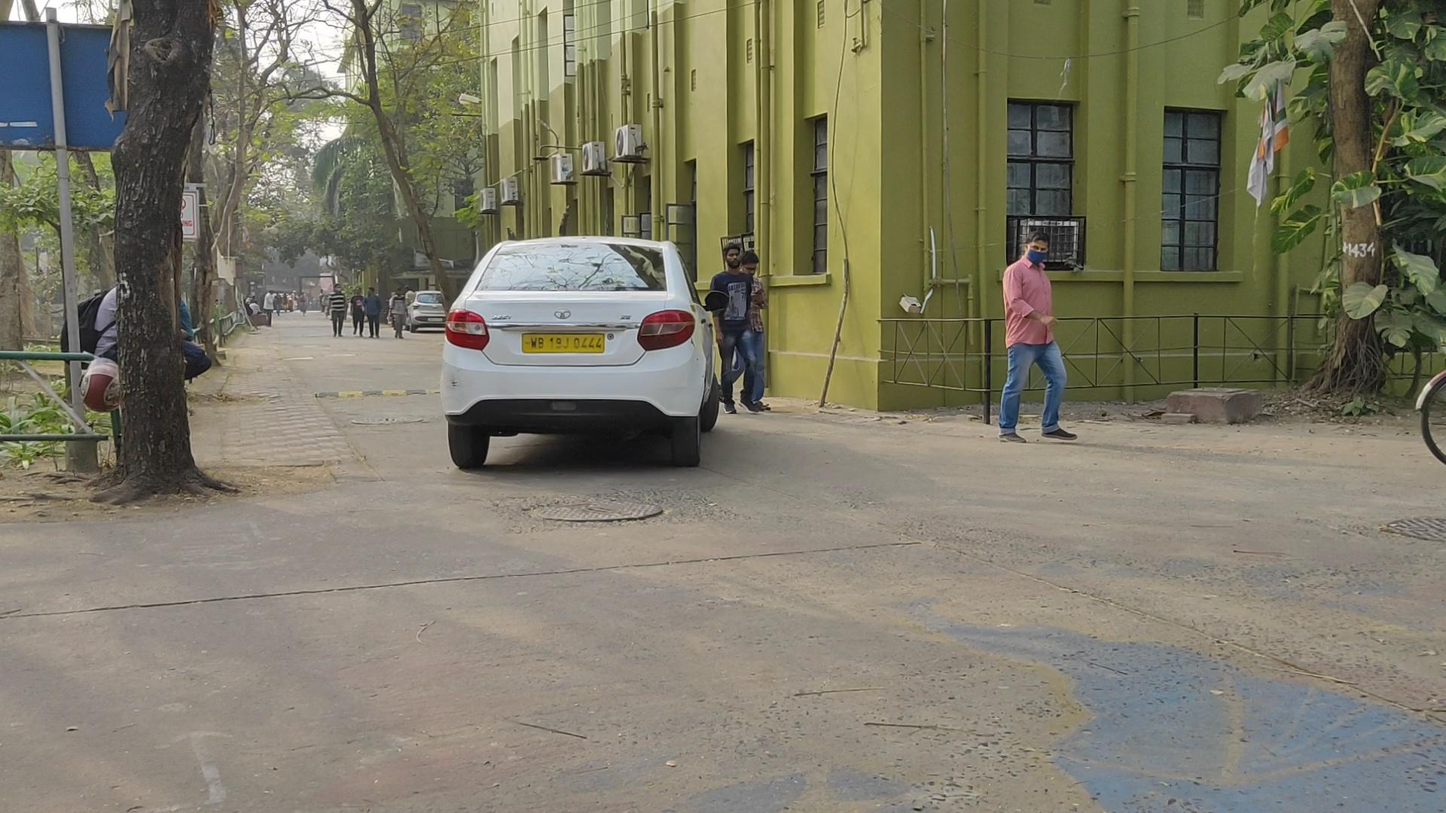car: (441, 236, 721, 470), (405, 291, 447, 333)
